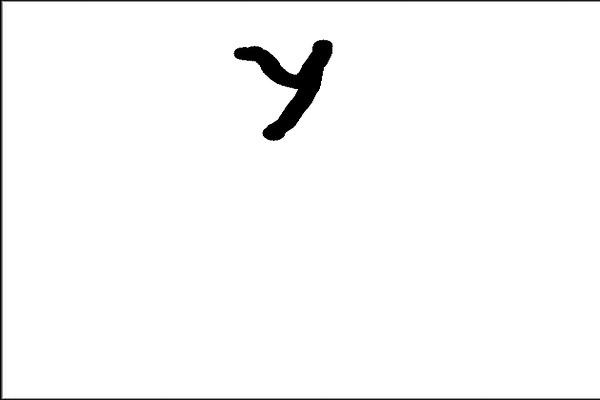Y: (231, 28, 344, 154)
